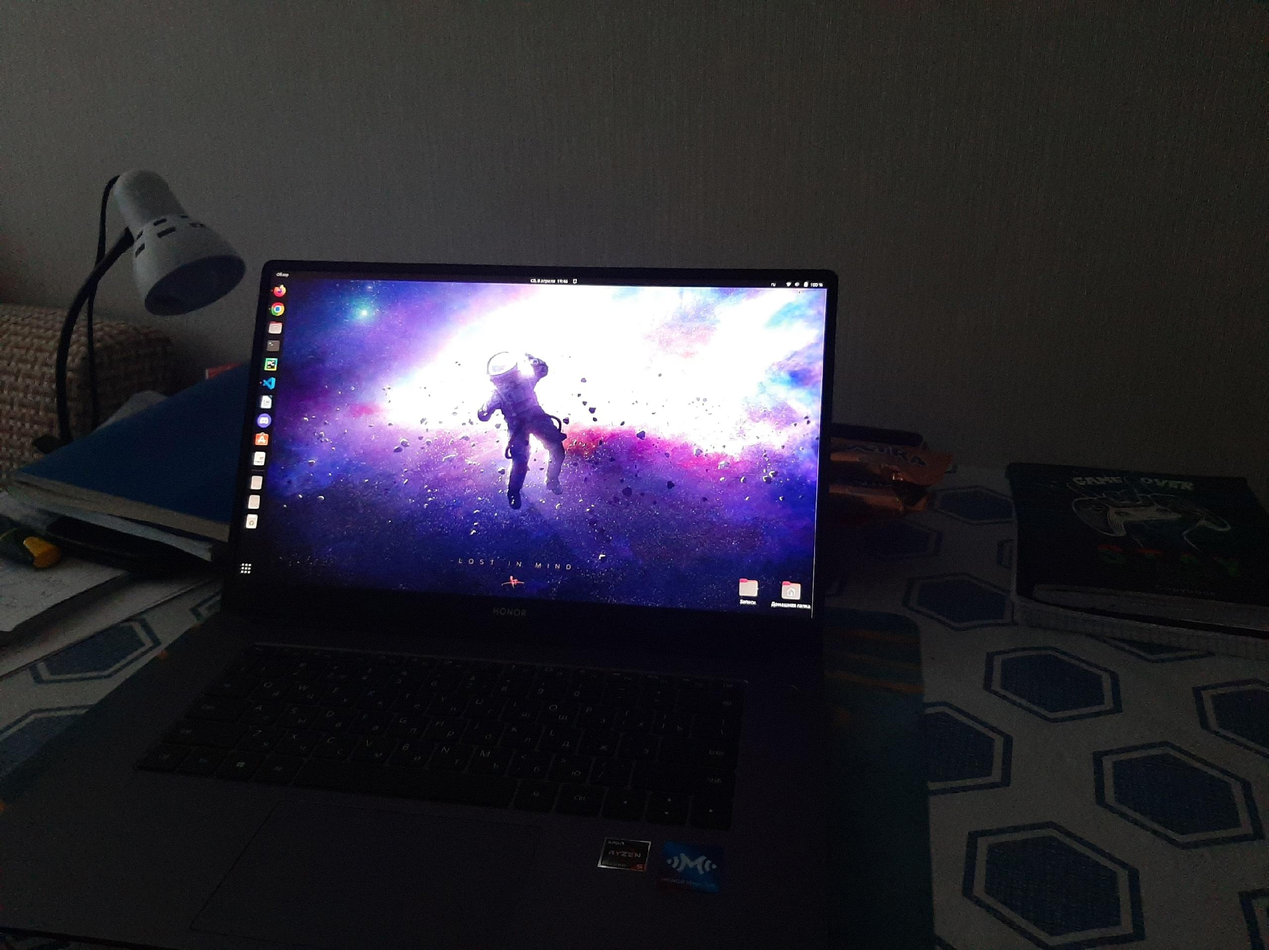monitor: (218, 250, 844, 659)
